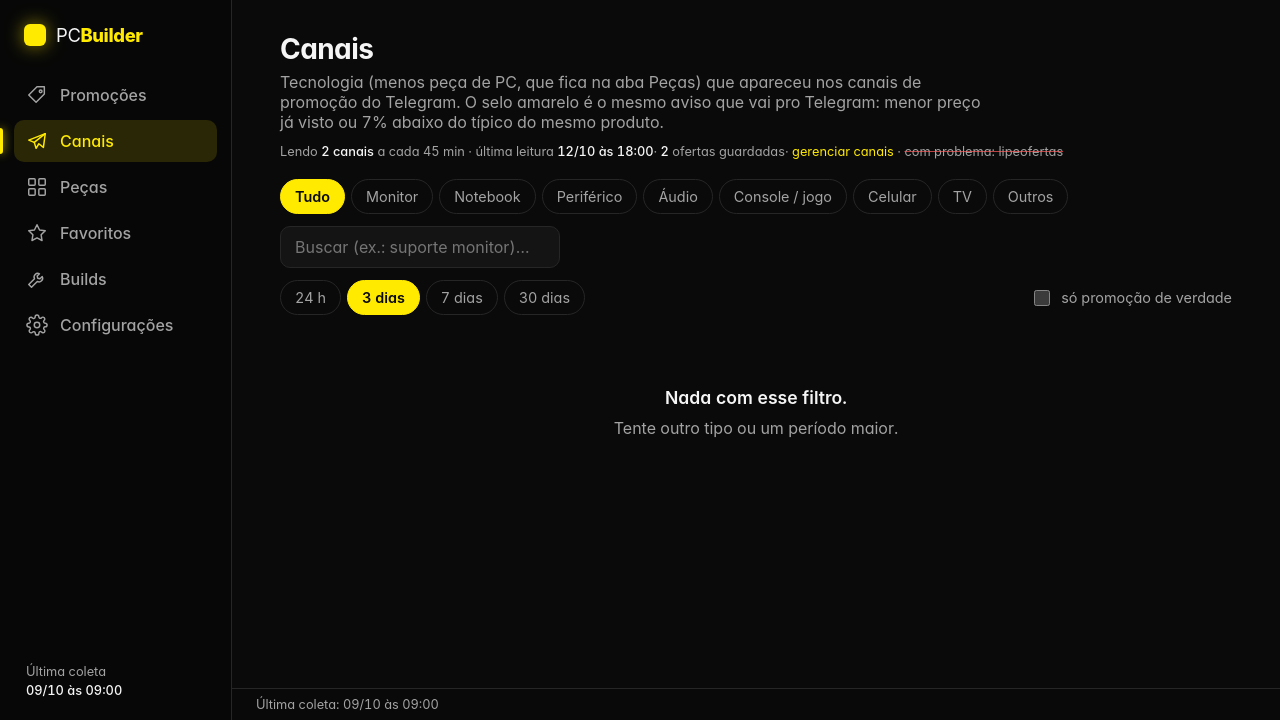
Test: Canais › filtro de tipo e "só promoção" vão pra API
expect the text "Nada com esse filtro." is shown: met, box [665, 387, 847, 408]
Click the tab "Áudio" at (678, 196), box [643, 179, 713, 214]
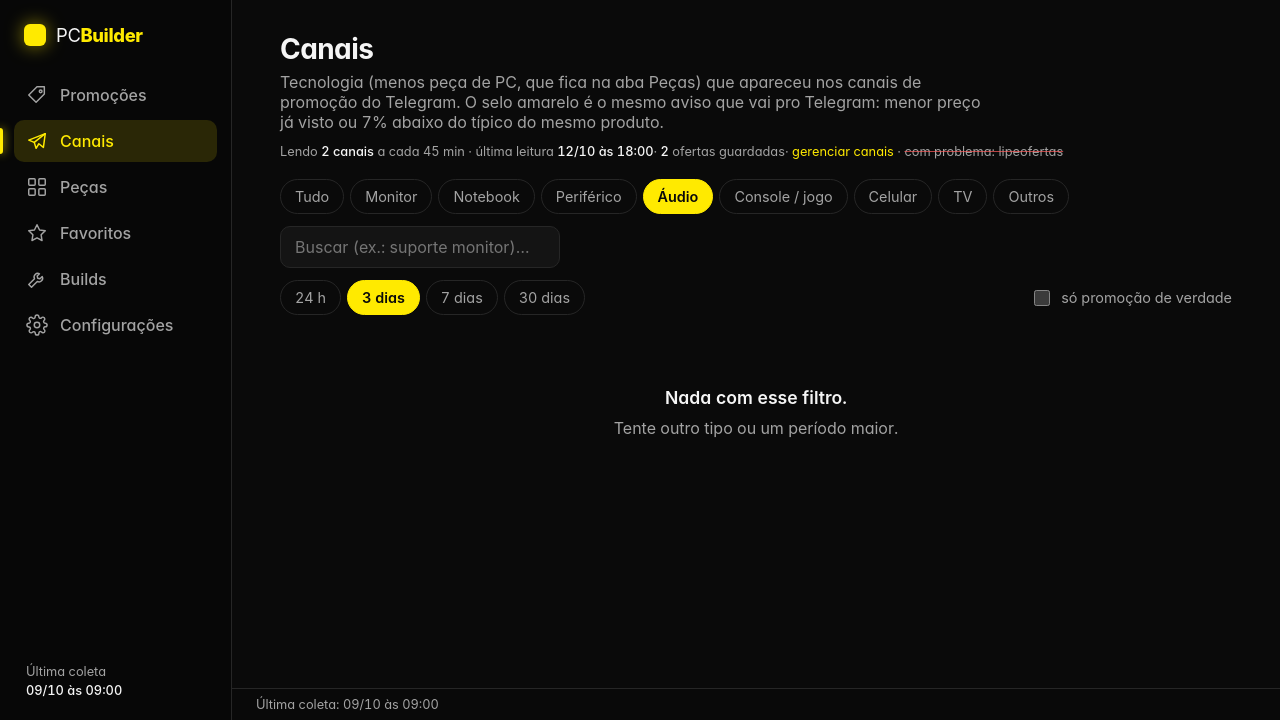
Click the checkbox at (1042, 298), box [1034, 290, 1050, 306]
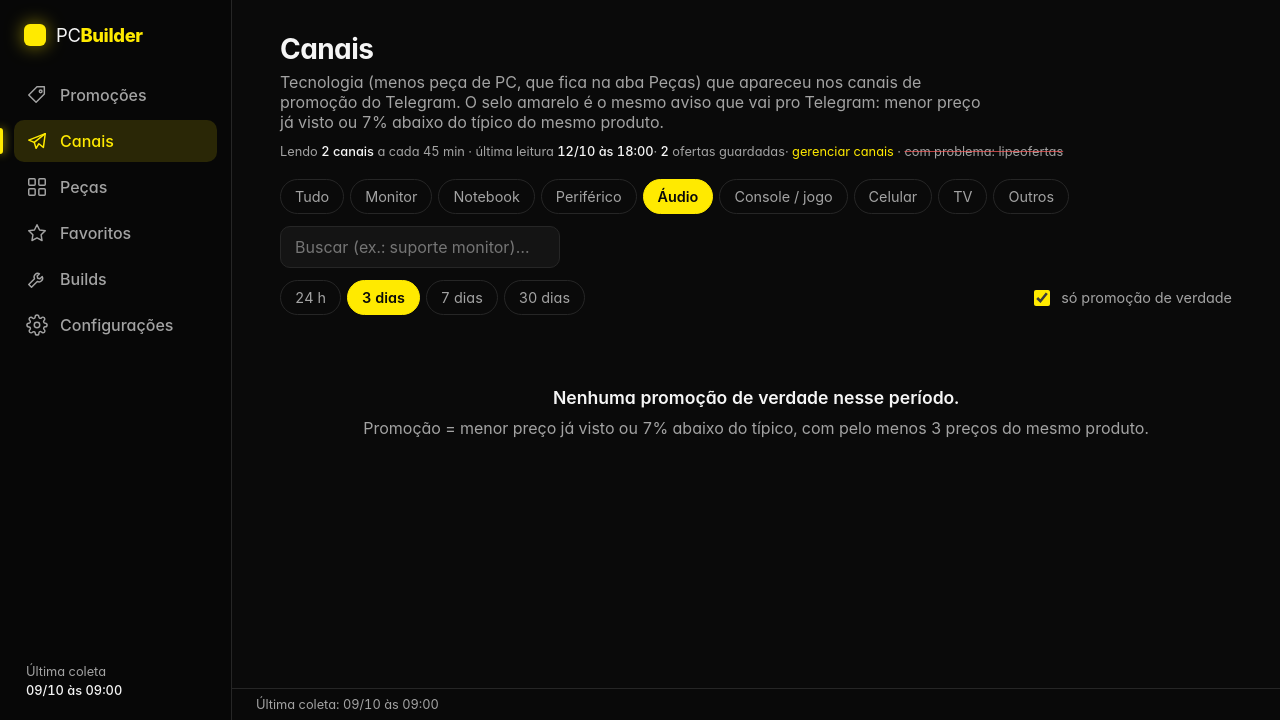
expect the text "Nenhuma promoção de verdade nesse período." is shown: met, box [553, 387, 959, 408]
